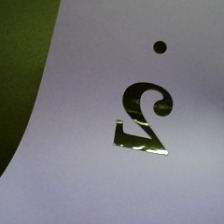violet2: (109, 36, 178, 158)
